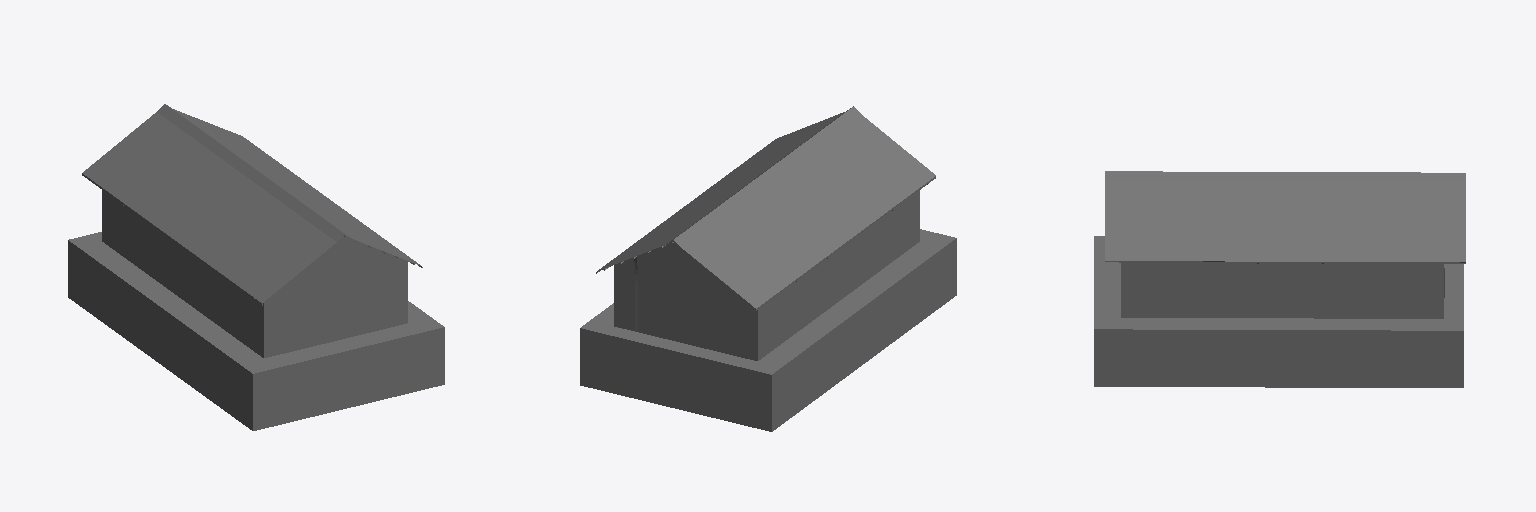
The model's file is casa1.obj.
3 renders of one model, left to right at view 1: azimuth 30°, elevation 25°; view 2: azimuth 150°, elevation 25°; view 3: azimuth 270°, elevation 25°, orthographic.
Parts seen in each view (by area): view 1: old_house_SAN_RUMAHGEN05; view 2: old_house_SAN_RUMAHGEN05; view 3: old_house_SAN_RUMAHGEN05.
Boxes of the visible parts, x1,y1,x2,y2 form: old_house_SAN_RUMAHGEN05: [68, 104, 444, 430]; old_house_SAN_RUMAHGEN05: [580, 106, 956, 431]; old_house_SAN_RUMAHGEN05: [1094, 171, 1465, 387].
Bounding box in the file's own units: 85.07 × 72.4 × 143.